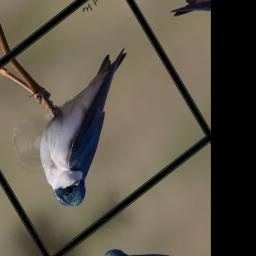Swallow: (14, 43, 175, 216)
